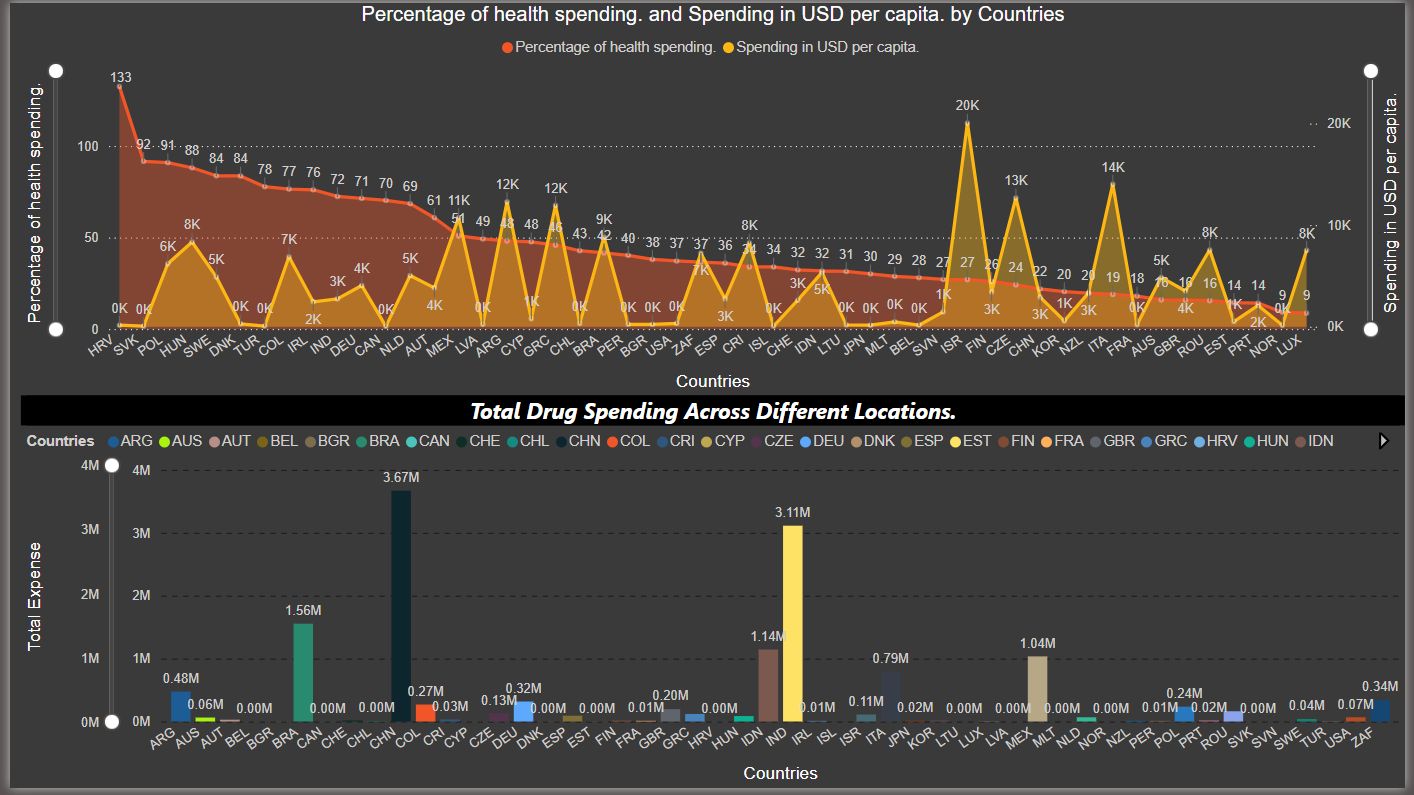

The page's visual inventory and layout, read from the dashboard file:
{"tool":"powerbi","page":{"name":"Page 2","canvas":[1280,720],"ordinal":1},"visuals":[{"type":"lineChart","fields":{"Category":["drug data.Location"],"Y":["Sum(drug data.PC_HEALTHXP)"],"Y2":["Sum(drug data.USD_CAP)"]},"box":[10,0,1270,360],"z":0},{"type":"columnChart","title":"Total Drug Spending Across Different Locations.","fields":{"Category":["drug data.Location"],"Y":["Sum(drug data.TOTAL_SPEND)"],"Series":["drug data.Location"]},"box":[10,360,1270,360],"z":1000}]}

Visuals, with their boxes in screenshot pixels (x1, y1, x2, y2), scaled from the page's 1280x720 canvas onto the 1414x795 screenshot:
lineChart - drug data.Location x Sum(drug data.PC_HEALTHXP): bbox=[11, 0, 1413, 398]
"Total Drug Spending Across Different Locations." columnChart: bbox=[11, 398, 1413, 794]
